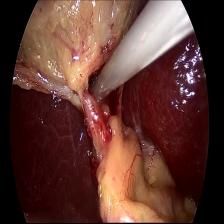Irrigator: (89, 56, 120, 107)
